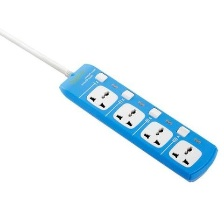three_eye_plug: (57, 61, 218, 182)
